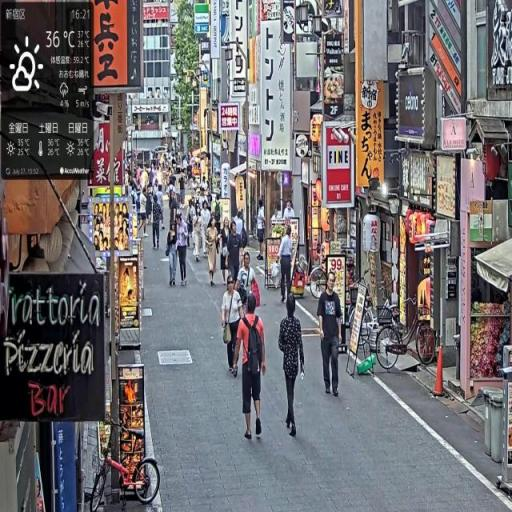person: (232, 292, 268, 443), (279, 293, 308, 441), (317, 271, 343, 401), (221, 276, 245, 379), (237, 250, 262, 315), (279, 224, 296, 308), (227, 221, 244, 287), (177, 213, 192, 287), (207, 216, 221, 289), (167, 225, 180, 289), (152, 189, 165, 251), (256, 199, 268, 261)
